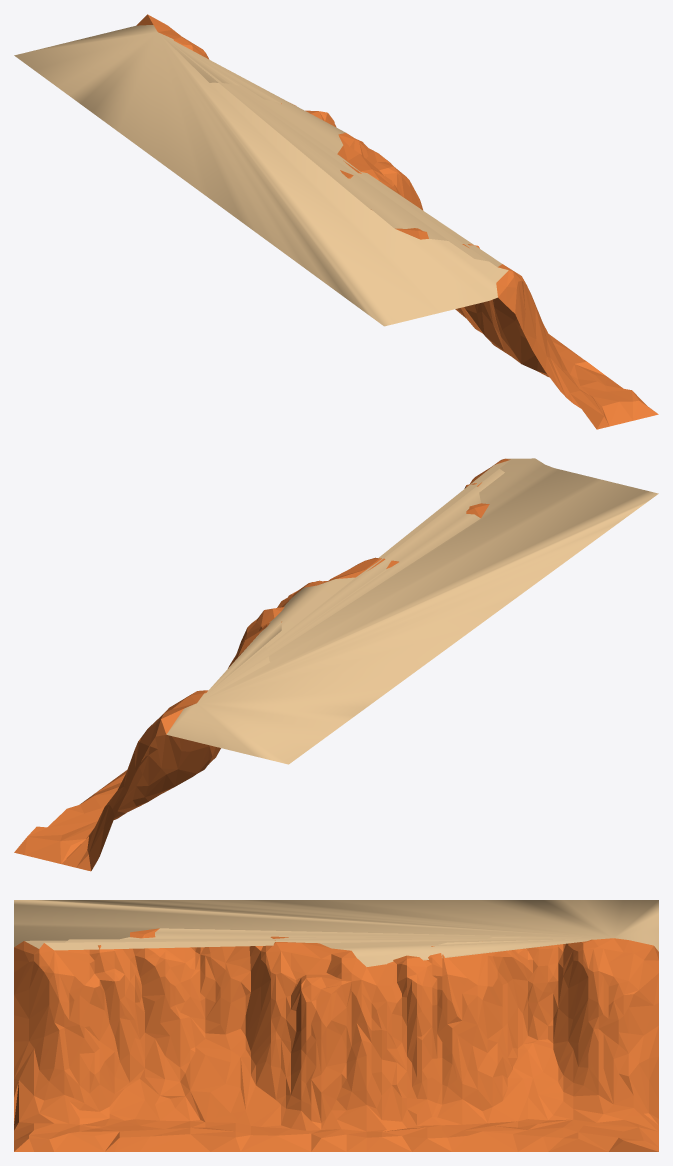
The model's file is waterfall_mountain.fbx.
3 renders of one model, top to bottom at view 1: azimuth 30°, elevation 25°; view 2: azimuth 150°, elevation 25°; view 3: azimuth 270°, elevation 25°, orthographic. The views are drawn at different scales.
Visible parts, largest first — view 1: waterfall_mountain; view 2: waterfall_mountain; view 3: waterfall_mountain.
Boxes of the visible parts, left/top/right/bottom form: waterfall_mountain: left=14, top=14, right=658, bottom=429; waterfall_mountain: left=14, top=458, right=658, bottom=871; waterfall_mountain: left=14, top=900, right=658, bottom=1151.
Bounding box in the file's own units: 192 × 113 × 448.
